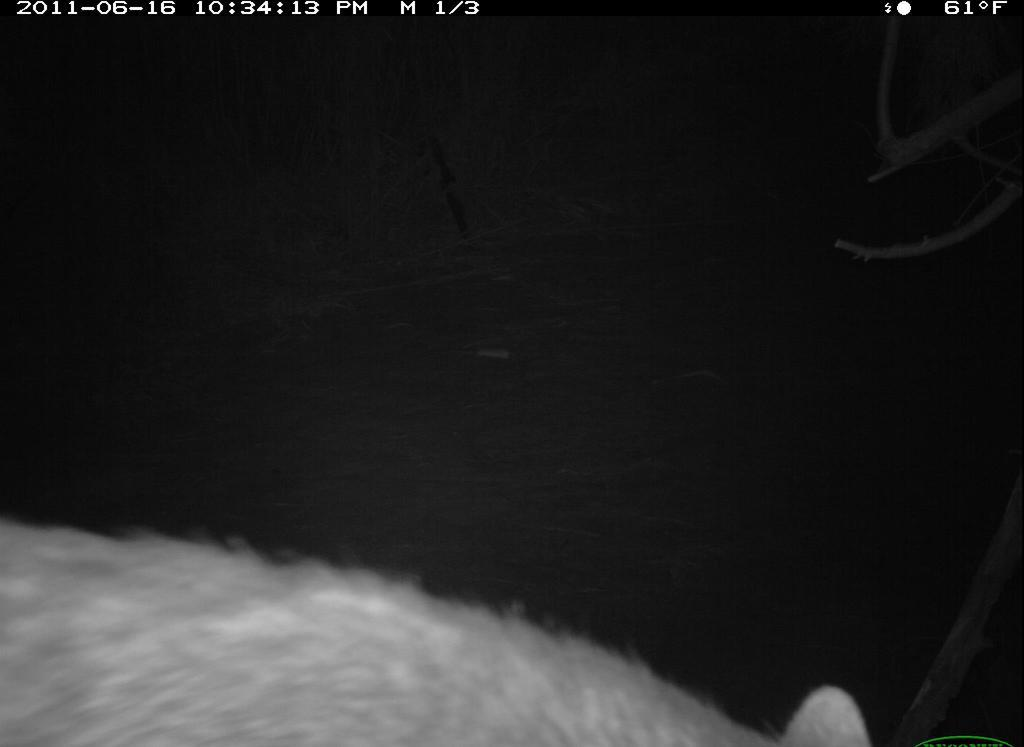raccoon: (4, 466, 900, 747)
